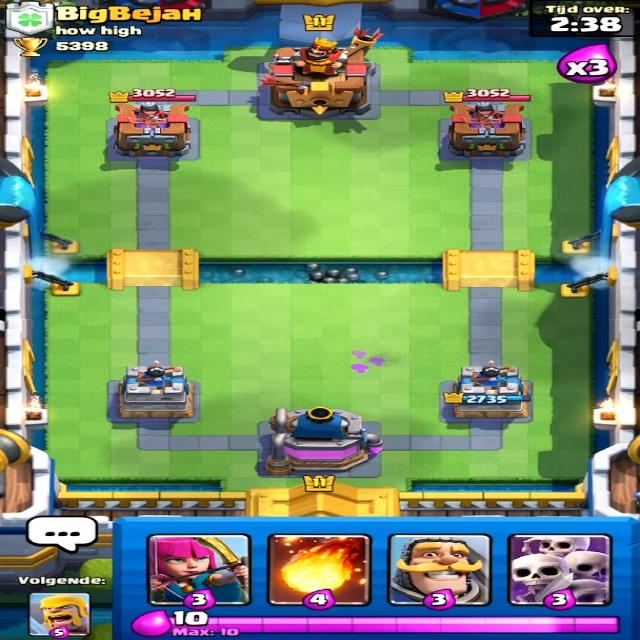Fireball_Card: (271, 535, 367, 607)
